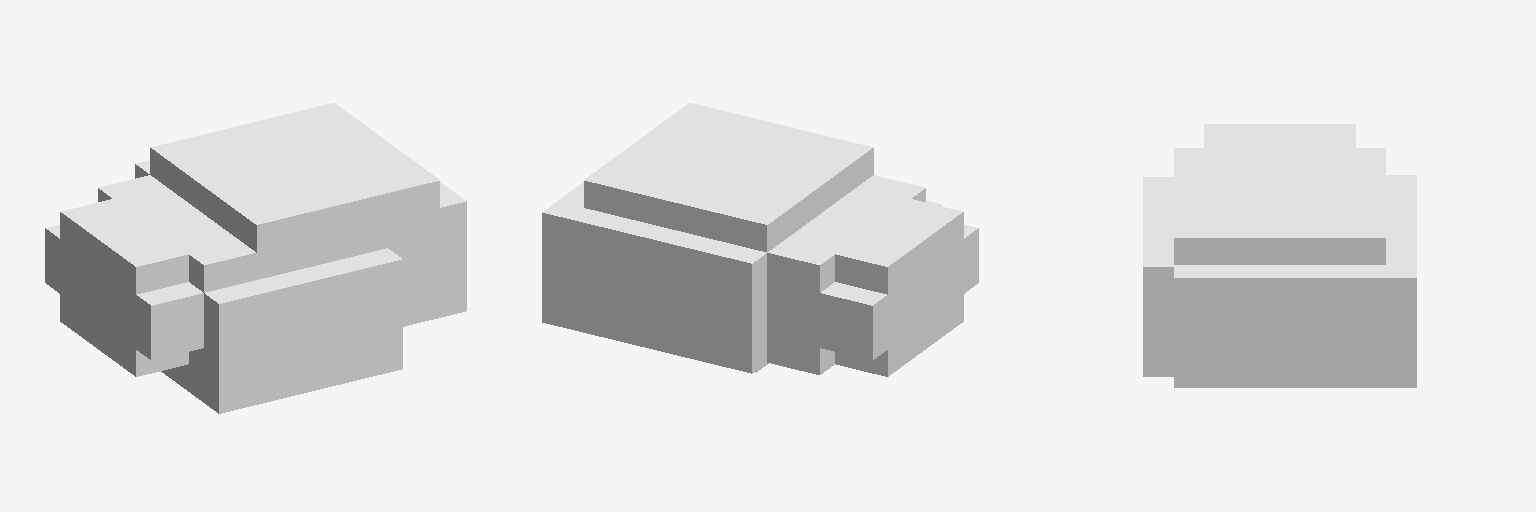
File: left_arm.obj
3 renders of one model, left to right at view 1: azimuth 30°, elevation 25°; view 2: azimuth 150°, elevation 25°; view 3: azimuth 270°, elevation 25°, orthographic.
Bounding box in the file's own units: 1.5 × 0.75 × 1.12.